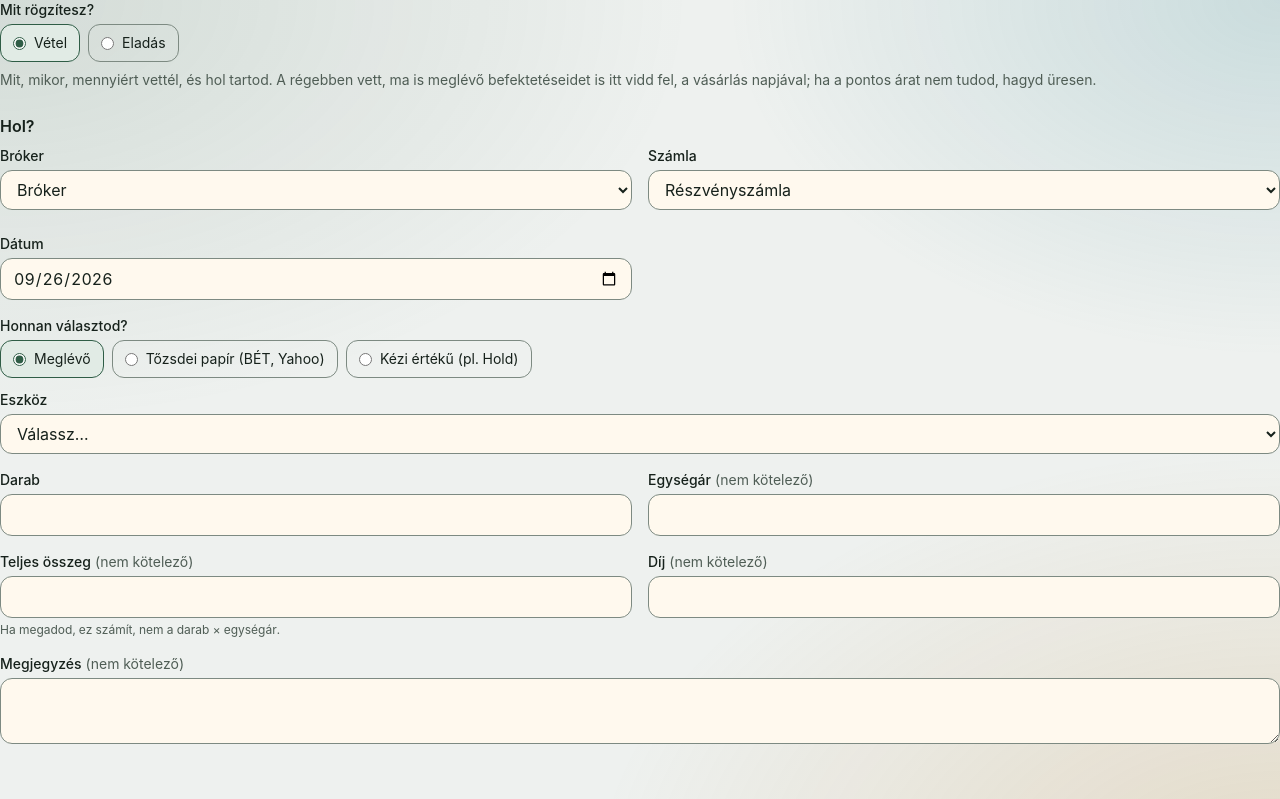
Scenario: EntryForm – Vétel and Eladás (4c plan §2, without the Mai állomány tab since 2026-09-27) › Yahoo's hits after the BÉT say why: nothing on the BÉT, or the BÉT cannot be reached
Click the radio button labelled "Tőzsdei papír (BÉT, Yahoo)": (131, 359) [125,352,138,366]
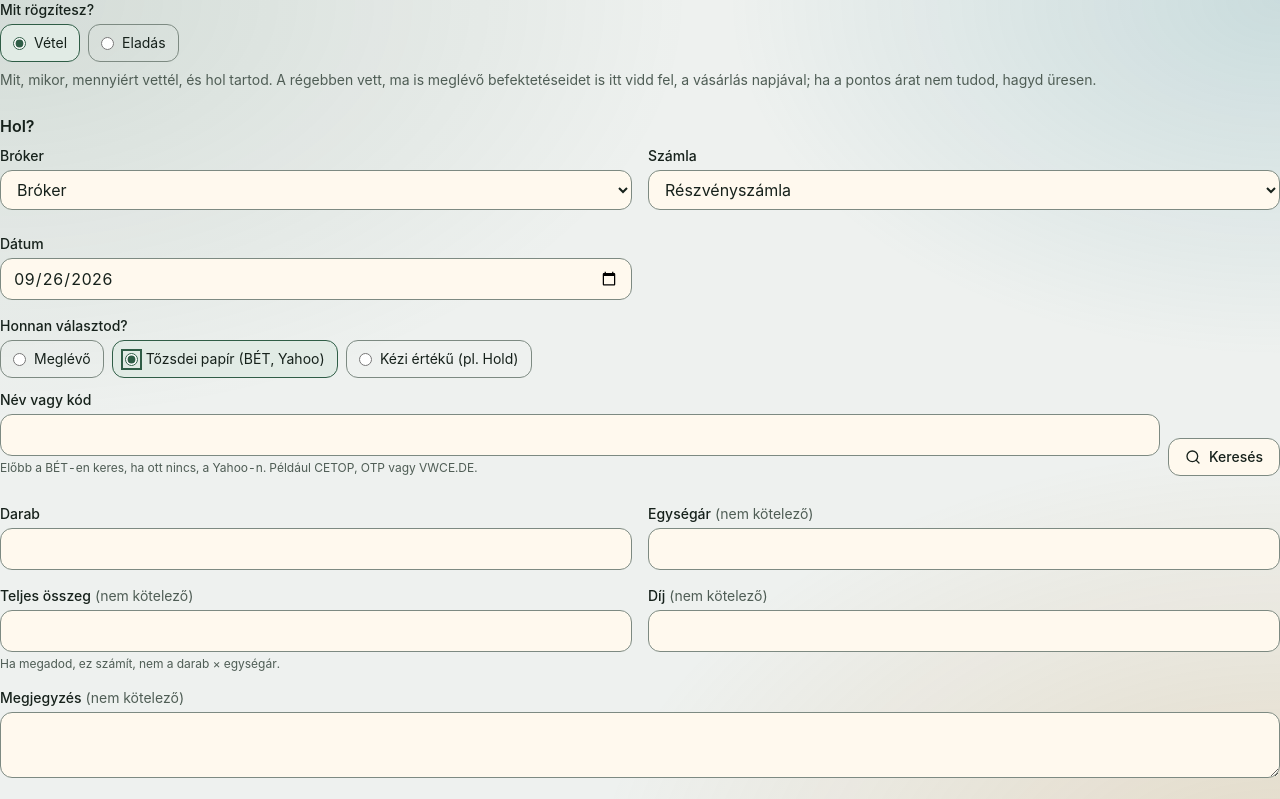
In the field labelled "Név vagy kód": (580, 435) [0,414,1160,456], type "példa"
Then press Enter
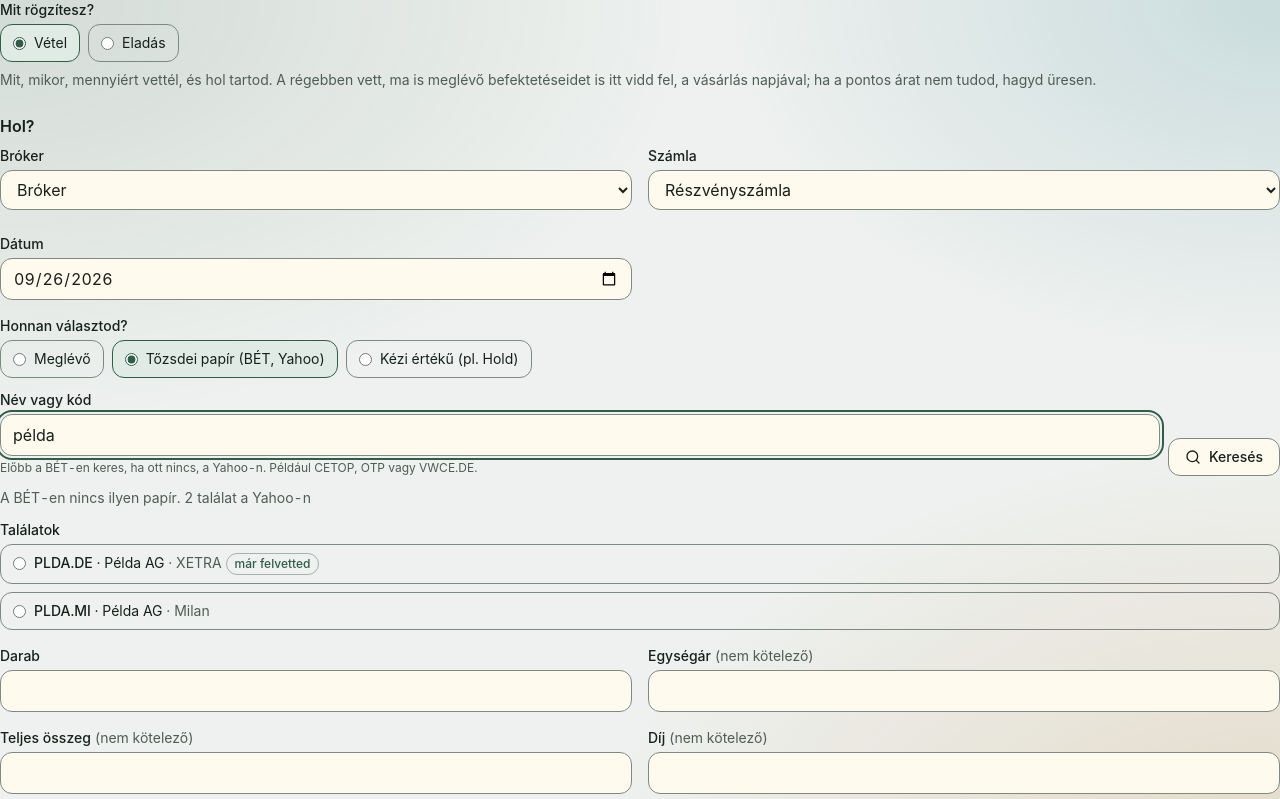
Expected: the text "A BÉT-en nincs ilyen papír. 2 találat a Yahoo-n" is shown, [0,489,311,506]
Replace the text in the field labelled "Név vagy kód" with "leall": (580, 435) [0,414,1160,456]
Then press Enter
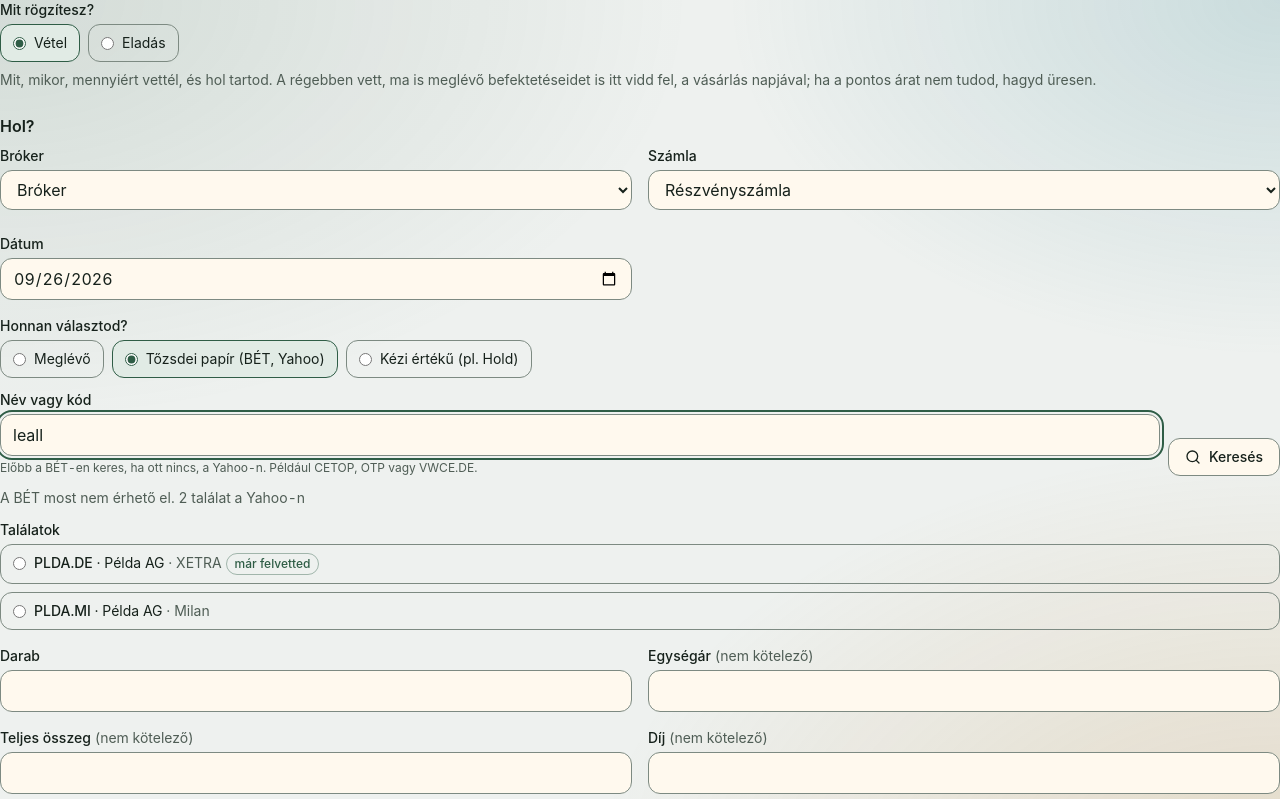
Expected: the text "A BÉT most nem érhető el. 2 találat a Yahoo-n" is shown, [0,489,305,506]
